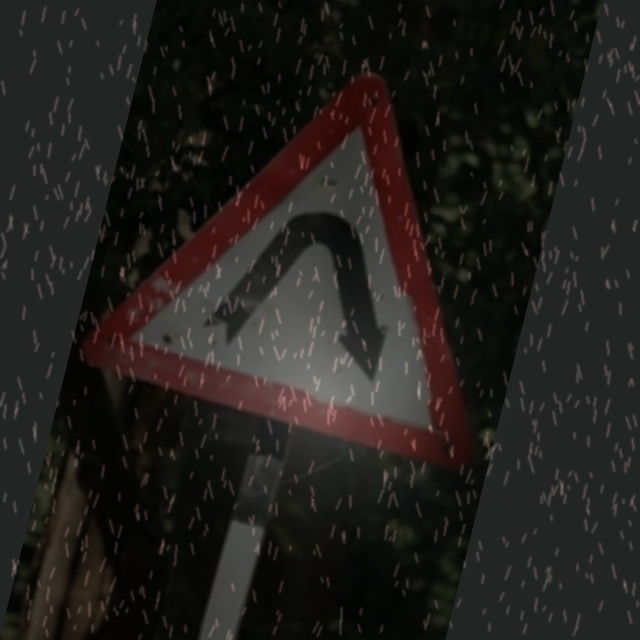Right_Hair_Pin_Bend: (89, 21, 540, 466)
